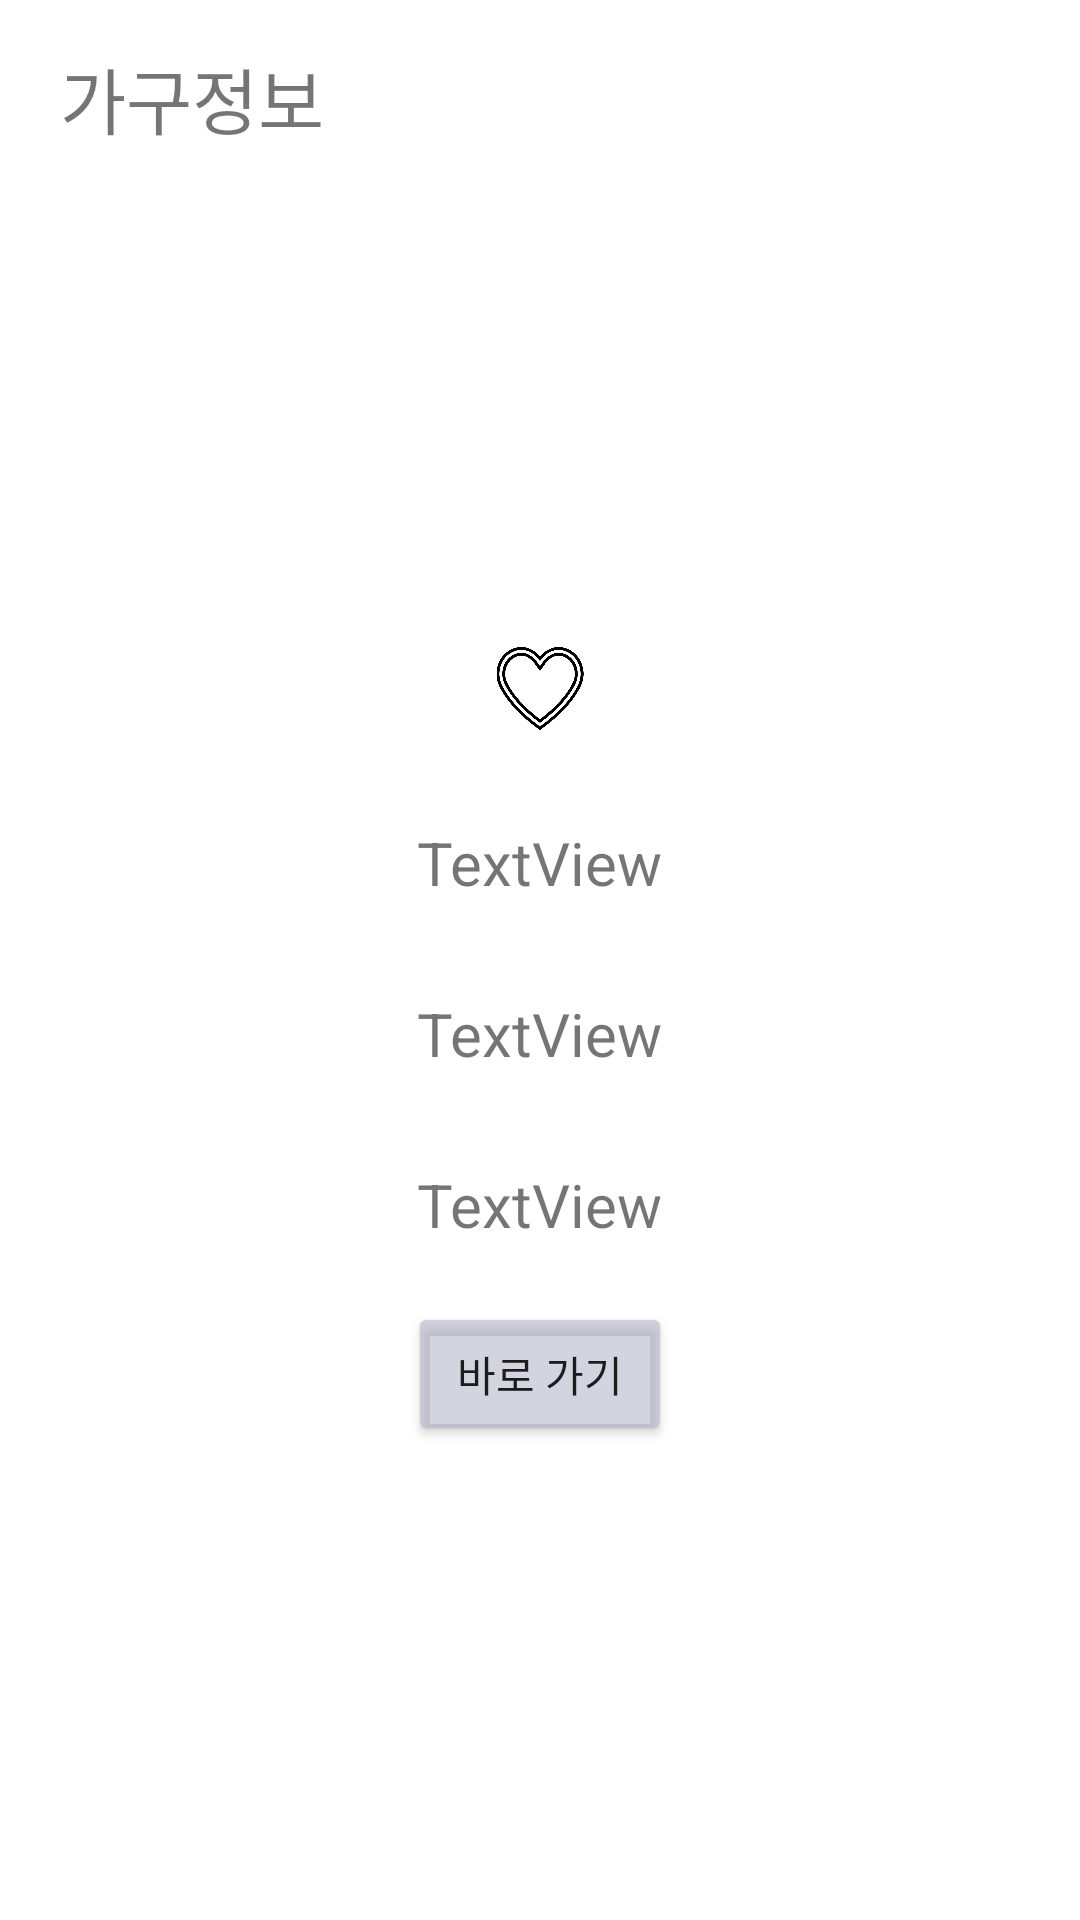

Point at icon controls on the screen. Image size 1080 × 1920, points as (x,y).
heart: (540,688)
